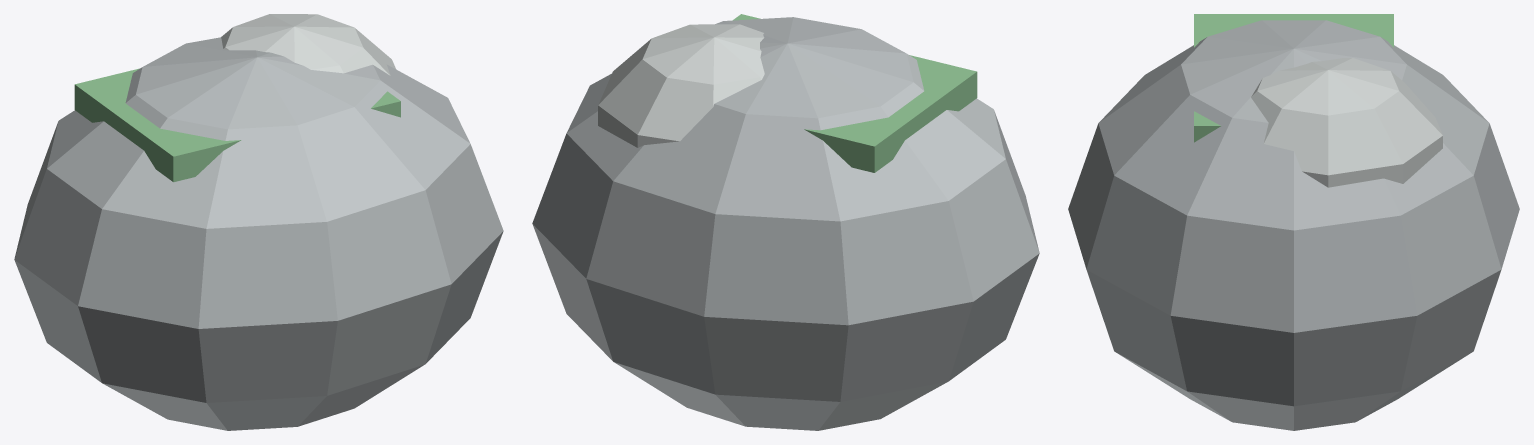
The model's file is roca_obstaculo.glb.
The picture shows the model from 3 angles, left to right: view 1: azimuth 30°, elevation 25°; view 2: azimuth 150°, elevation 25°; view 3: azimuth 270°, elevation 25°; orthographic projection. The views are drawn at different scales.
Visible parts, largest first — view 1: roca_obstaculo; view 2: roca_obstaculo; view 3: roca_obstaculo.
Boxes of the visible parts, x1,y1,x2,y2 form: roca_obstaculo: (14, 14, 503, 430); roca_obstaculo: (532, 14, 1039, 430); roca_obstaculo: (1068, 14, 1519, 430).
Bounding box in the file's own units: 1.76 × 1.38 × 1.58.
